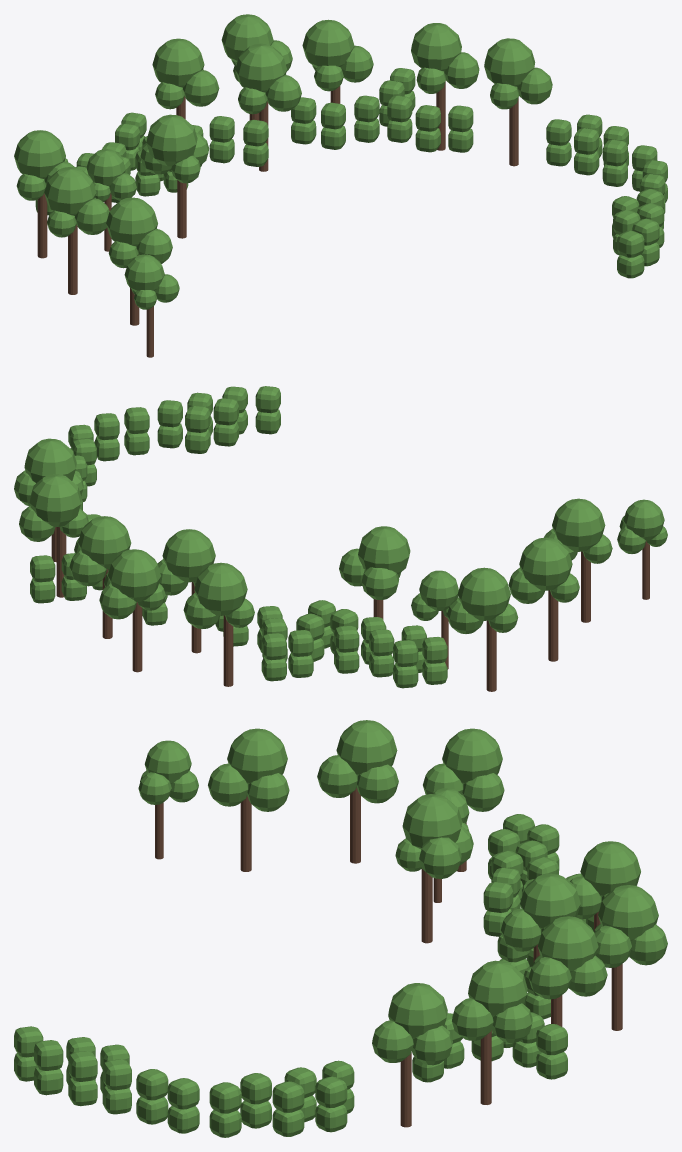
File: EXP_forest.glb
3 views of the same model, one above another, from view 1: azimuth 30°, elevation 25°; view 2: azimuth 150°, elevation 25°; view 3: azimuth 270°, elevation 25° (orthographic). The views are drawn at different scales.
Parts seen in each view (by area): view 1: Trees; view 2: Trees; view 3: Trees.
Boxes of the visible parts, bbox=[...] form: Trees: bbox=[14, 14, 667, 357]; Trees: bbox=[14, 386, 667, 691]; Trees: bbox=[14, 720, 667, 1137].
Bounding box in the file's own units: 11.07 × 2.29 × 9.69.
